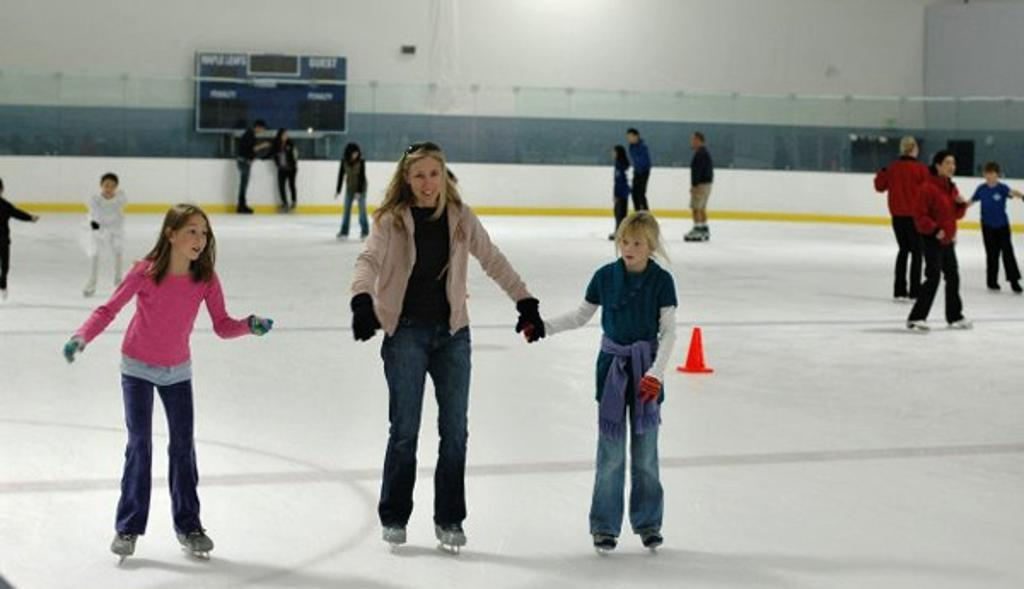face: (175, 214, 209, 260), (410, 159, 442, 205), (621, 232, 649, 265), (942, 156, 956, 175), (103, 180, 114, 197), (986, 171, 998, 182), (628, 134, 635, 144), (692, 135, 698, 146), (352, 152, 358, 160), (283, 133, 288, 141)
